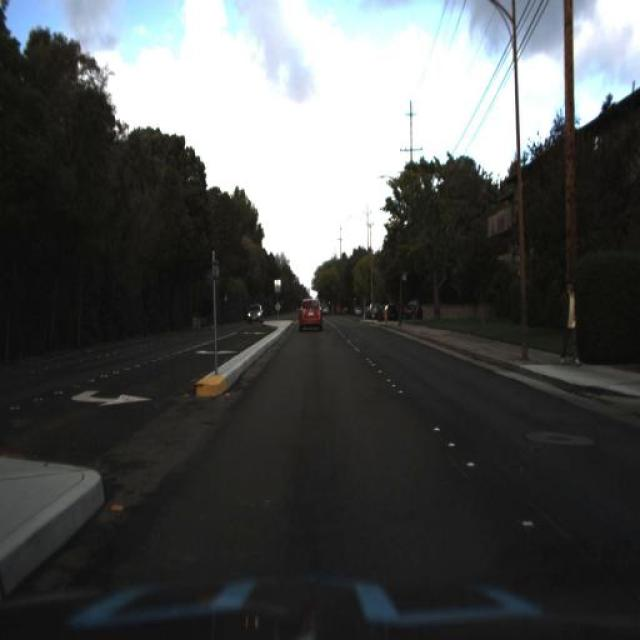car: (296, 294, 323, 335), (244, 298, 266, 332), (246, 299, 266, 323)
trafficLight: (558, 279, 582, 369)
